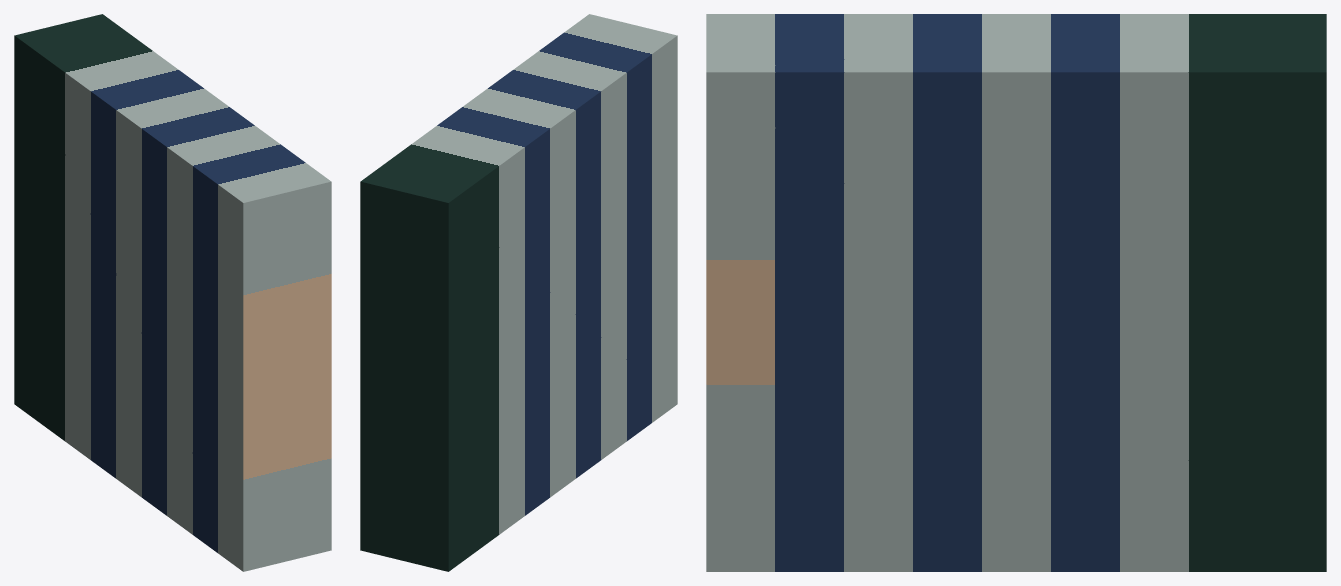
File: Body1.fbx
The picture shows the model from 3 angles, left to right: view 1: azimuth 30°, elevation 25°; view 2: azimuth 150°, elevation 25°; view 3: azimuth 270°, elevation 25°; orthographic projection. The views are drawn at different scales.
Parts seen in each view (by area): view 1: Untitled.011; view 2: Untitled.011; view 3: Untitled.011.
Boxes of the visible parts, <box> form: Untitled.011: <box>14,14,331,571</box>; Untitled.011: <box>360,14,677,571</box>; Untitled.011: <box>706,14,1326,571</box>.
Bounding box in the file's own units: 20 × 80 × 90.
